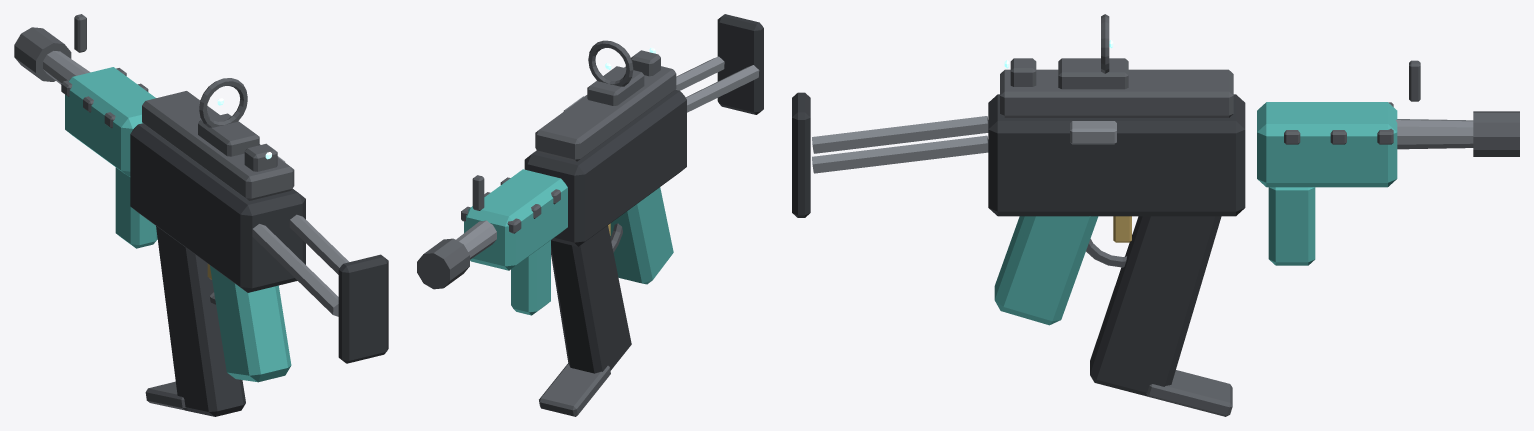
Rendered from smg.glb.
3 renders of one model, left to right at view 1: azimuth 30°, elevation 25°; view 2: azimuth 150°, elevation 25°; view 3: azimuth 270°, elevation 25°, orthographic. The views are drawn at different scales.
Visible parts, largest first — view 1: SMG_Receiver, SMG_Magazine, SMG_Grip, SMG_Upper, SMG_Shroud, SMG_Butt, SMG_StockRod_L, SMG_Foregrip, SMG_Muzzle, SMG_OpticBase, SMG_StockRod_R, SMG_OpticRing (+4 smaller); view 2: SMG_Receiver, SMG_Magazine, SMG_Shroud, SMG_Upper, SMG_Grip, SMG_Butt, SMG_Foregrip, SMG_MagPlate, SMG_Muzzle, SMG_OpticBase, SMG_StockRod_L, SMG_OpticRing (+4 smaller); view 3: SMG_Receiver, SMG_Magazine, SMG_Shroud, SMG_Upper, SMG_Grip, SMG_Foregrip, SMG_StockRod_R, SMG_StockRod_L, SMG_MagPlate, SMG_Butt, SMG_Barrel, SMG_Muzzle (+3 smaller).
Part boxes in pixels (x1=…): SMG_Receiver: x1=130, y1=123, x2=305, y2=292; SMG_Magazine: x1=156, y1=226, x2=245, y2=416; SMG_Grip: x1=210, y1=265, x2=291, y2=382; SMG_Upper: x1=142, y1=91, x2=294, y2=200; SMG_Shroud: x1=65, y1=67, x2=155, y2=176; SMG_Butt: x1=338, y1=254, x2=388, y2=363; SMG_StockRod_L: x1=252, y1=224, x2=338, y2=316; SMG_Foregrip: x1=115, y1=167, x2=157, y2=248; SMG_Muzzle: x1=14, y1=27, x2=71, y2=81; SMG_OpticBase: x1=198, y1=113, x2=259, y2=156; SMG_StockRod_R: x1=289, y1=214, x2=349, y2=274; SMG_OpticRing: x1=199, y1=78, x2=247, y2=127; SMG_Receiver: x1=524, y1=89, x2=686, y2=246; SMG_Magazine: x1=551, y1=225, x2=631, y2=373; SMG_Shroud: x1=464, y1=169, x2=567, y2=270; SMG_Upper: x1=535, y1=66, x2=676, y2=161; SMG_Grip: x1=610, y1=187, x2=673, y2=284; SMG_Butt: x1=717, y1=14, x2=763, y2=114; SMG_Foregrip: x1=511, y1=240, x2=550, y2=315; SMG_MagPlate: x1=539, y1=363, x2=610, y2=416; SMG_Muzzle: x1=417, y1=238, x2=469, y2=289; SMG_OpticBase: x1=587, y1=66, x2=644, y2=105; SMG_StockRod_L: x1=685, y1=65, x2=759, y2=112; SMG_OpticRing: x1=588, y1=40, x2=633, y2=86; SMG_Receiver: x1=988, y1=94, x2=1245, y2=216; SMG_Magazine: x1=1090, y1=216, x2=1221, y2=396; SMG_Shroud: x1=1257, y1=102, x2=1397, y2=187; SMG_Upper: x1=1000, y1=69, x2=1233, y2=117; SMG_Grip: x1=994, y1=216, x2=1098, y2=325; SMG_Foregrip: x1=1268, y1=187, x2=1315, y2=265; SMG_StockRod_R: x1=812, y1=135, x2=988, y2=173; SMG_StockRod_L: x1=812, y1=116, x2=988, y2=153; SMG_MagPlate: x1=1146, y1=370, x2=1232, y2=416; SMG_Butt: x1=792, y1=92, x2=810, y2=217; SMG_Barrel: x1=1396, y1=119, x2=1473, y2=149; SMG_Muzzle: x1=1473, y1=111, x2=1519, y2=156.
Size of the model in its own units: 0.085 by 0.3692 by 0.623.
